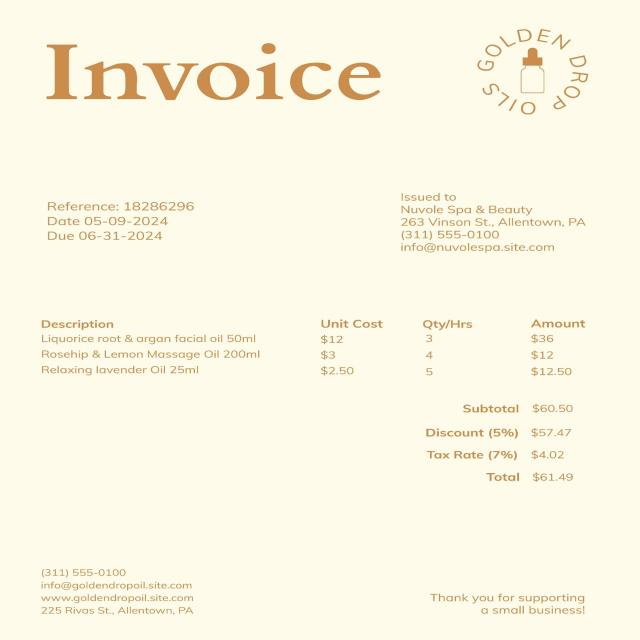paragraph: (39, 40, 380, 118), (400, 400, 596, 489), (380, 187, 597, 266), (476, 26, 594, 121), (43, 191, 205, 258), (33, 565, 206, 623), (426, 588, 594, 624)
table: (28, 315, 610, 383)
